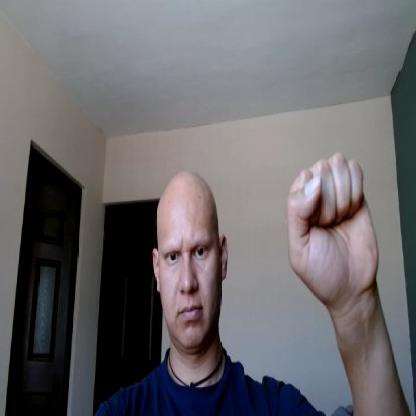S: (289, 151, 380, 297)
